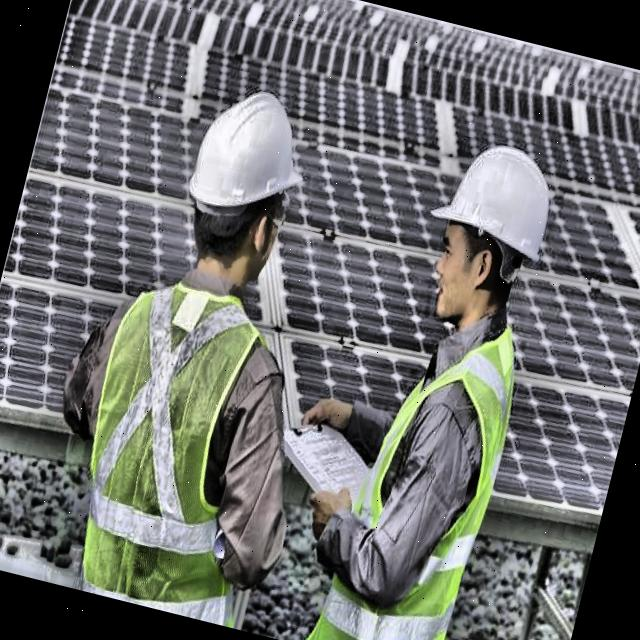helmet: (156, 61, 326, 303), (403, 118, 574, 354)
